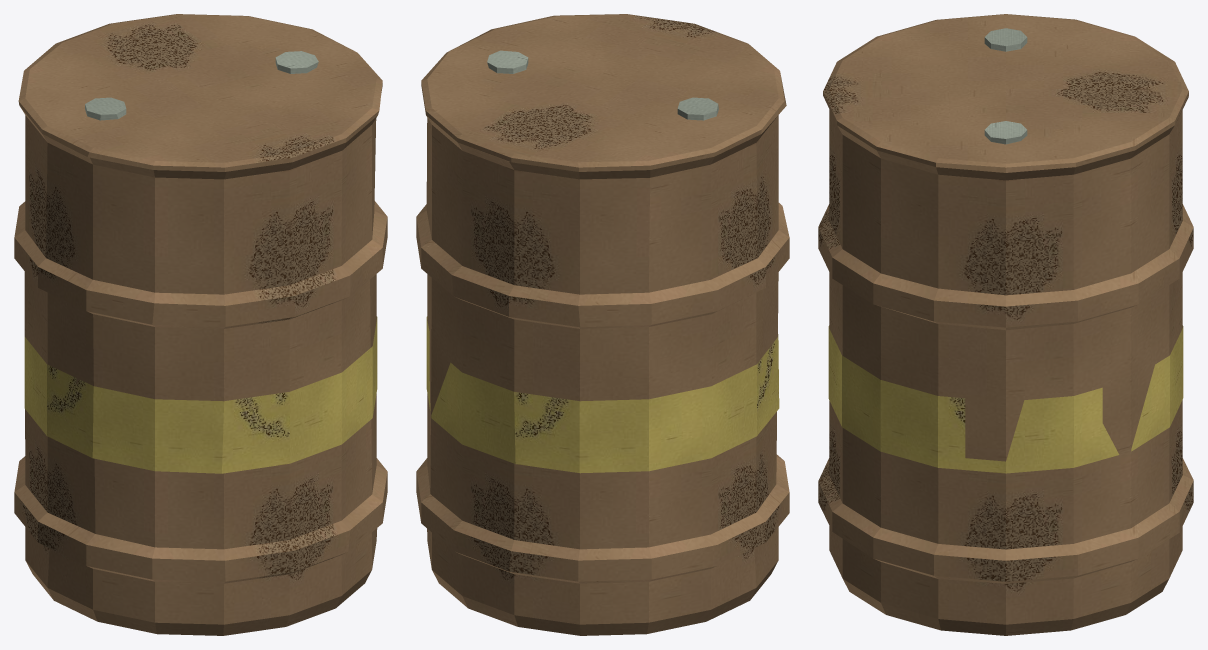
Rendered from barrel_v1.glb.
3 views of the same model, side by side, from view 1: azimuth 30°, elevation 25°; view 2: azimuth 150°, elevation 25°; view 3: azimuth 270°, elevation 25° (orthographic).
Visible parts, largest first — view 1: Variant_barrel_1; view 2: Variant_barrel_1; view 3: Variant_barrel_1.
Boxes of the visible parts, x1,y1,x2,y2 form: Variant_barrel_1: (14, 14, 387, 635); Variant_barrel_1: (416, 14, 789, 635); Variant_barrel_1: (818, 14, 1193, 635).
Size of the model in its own units: 0.616 by 0.87 by 0.616.
Materials: 3 (3 with a texture image).
